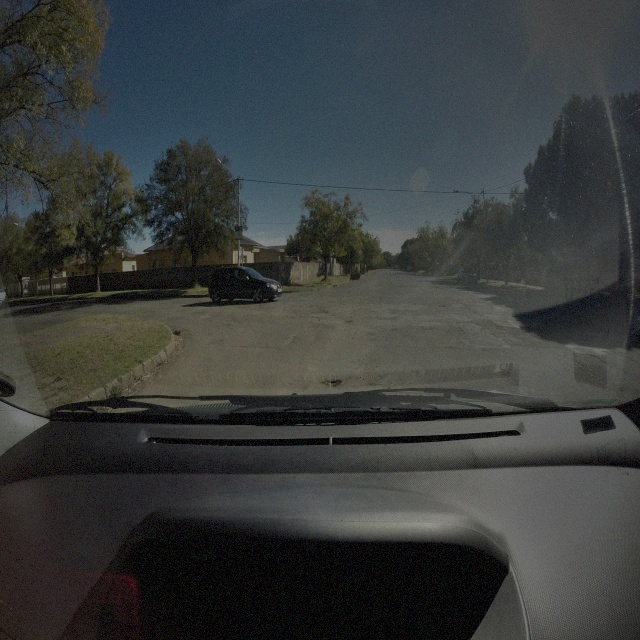pothole: (320, 377, 342, 390), (345, 320, 353, 325)
